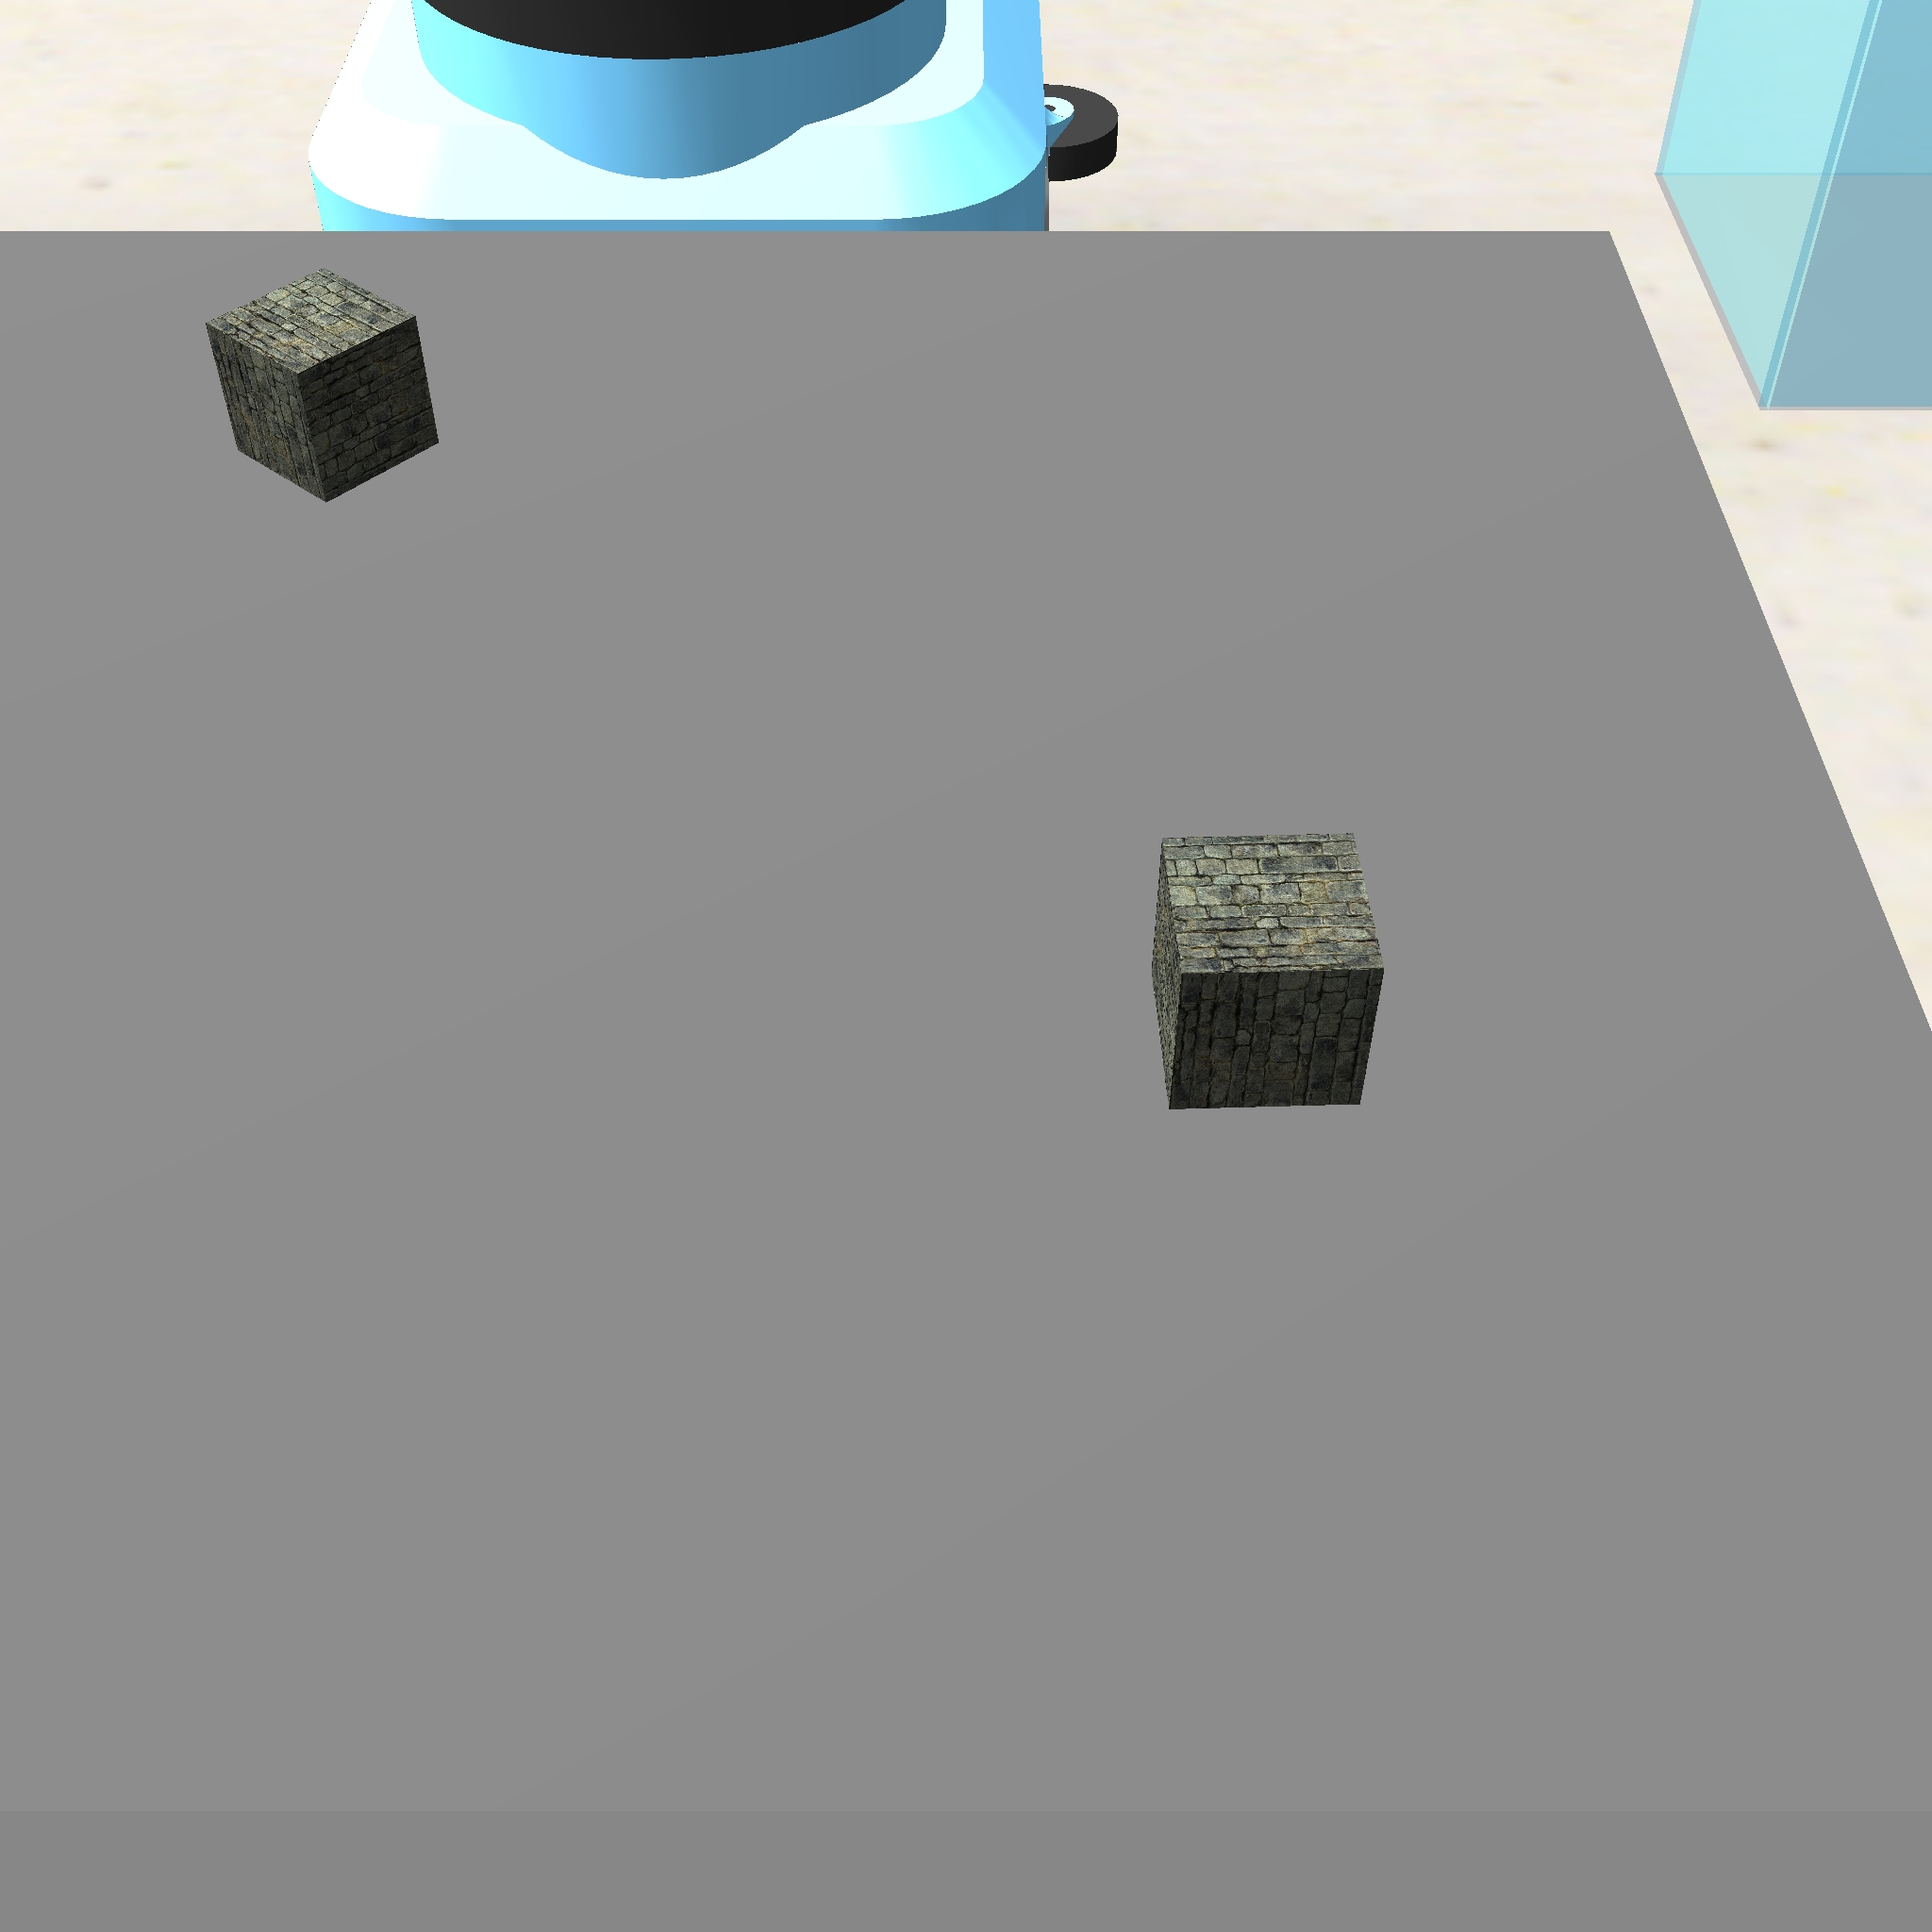cube: (1141, 821, 1394, 1127), (196, 262, 451, 508)
